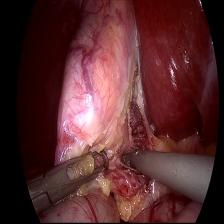Grasper: (48, 148, 110, 211)
Irrigator: (127, 144, 148, 176)
